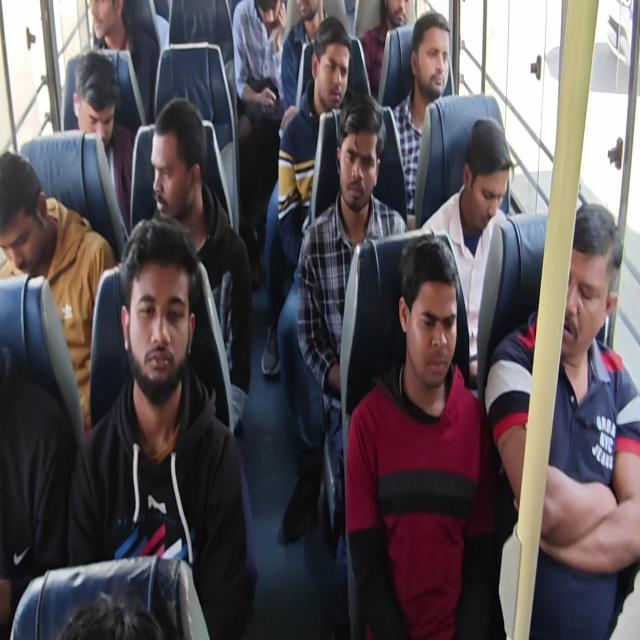person: (108, 217, 204, 398), (396, 224, 460, 392), (0, 140, 63, 302), (556, 196, 618, 354), (146, 97, 217, 217), (457, 105, 522, 232), (395, 5, 461, 104), (333, 100, 392, 210), (51, 588, 164, 640), (62, 53, 121, 145), (246, 0, 305, 90), (308, 14, 356, 118), (86, 0, 126, 38)
